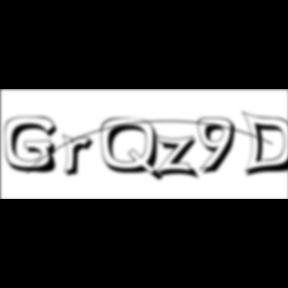9: (198, 117, 242, 177)
G: (4, 116, 64, 176)
Q: (100, 117, 166, 184)
r: (62, 134, 100, 180)
z: (154, 134, 204, 182)
